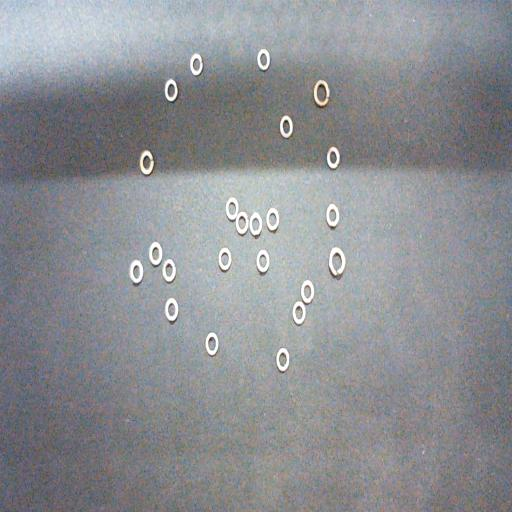washer: (329, 247, 346, 276), (314, 79, 329, 107), (164, 297, 178, 322), (140, 151, 154, 175), (205, 332, 219, 356), (218, 247, 232, 271), (256, 249, 270, 273), (235, 212, 249, 236), (149, 241, 163, 265), (130, 259, 144, 283), (276, 348, 289, 373), (189, 53, 203, 76), (164, 79, 178, 102), (326, 204, 340, 227), (266, 208, 280, 231), (292, 301, 305, 325), (249, 212, 262, 236), (257, 48, 270, 71), (280, 115, 293, 138), (327, 146, 340, 169), (301, 280, 314, 303), (226, 197, 239, 220), (163, 259, 176, 282)
